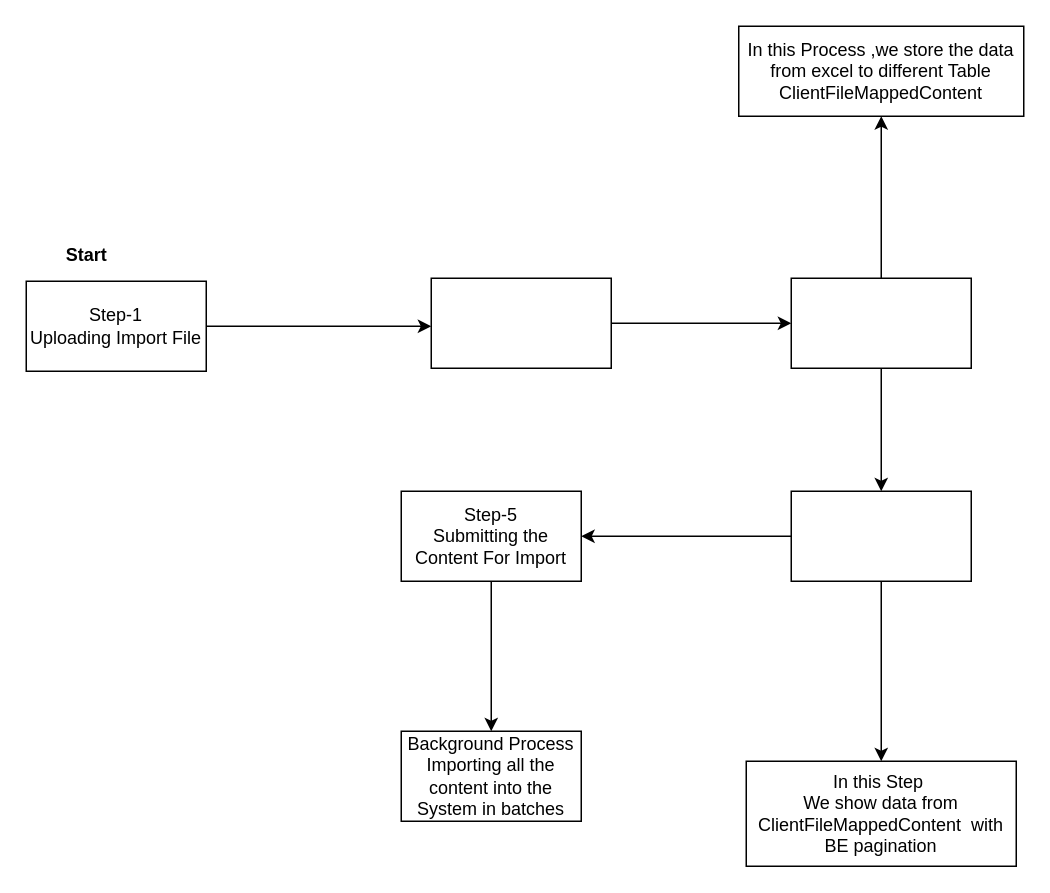
Some shapes in this 1050 by 893 pixel diagram are drawn without their labels. The shapes that lost their labels are listed below. From the top down, each one's centre as x and y in pixels, then its label:
[520,322]: Step-2 Mapping File Headers with Collect logic Fields
[880,322]: Step-3 Validation of the Placement File For Errors and Warning
[880,535]: Step-4 Approving all Warning
